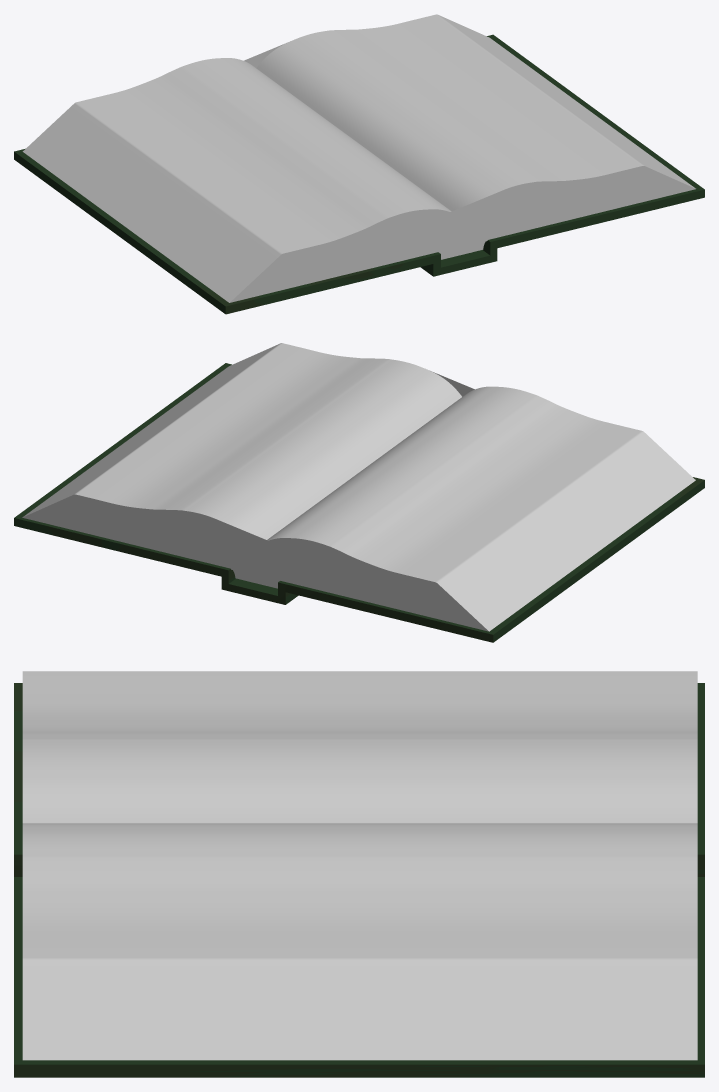
The model's file is GreenBookOpen_Fix.fbx.
3 renders of one model, top to bottom at view 1: azimuth 30°, elevation 25°; view 2: azimuth 150°, elevation 25°; view 3: azimuth 270°, elevation 25°, orthographic. The views are drawn at different scales.
Visible parts, largest first — view 1: polySurface4, book4; view 2: polySurface4, book4; view 3: polySurface4, book4.
Boxes of the visible parts, x1,y1,x2,y2 form: polySurface4: [22, 14, 695, 302]; book4: [14, 34, 704, 314]; polySurface4: [22, 343, 695, 631]; book4: [14, 363, 704, 642]; polySurface4: [22, 671, 697, 1060]; book4: [14, 683, 704, 1077].
Size of the model in its own units: 32.45 by 4.42 by 24.83.
